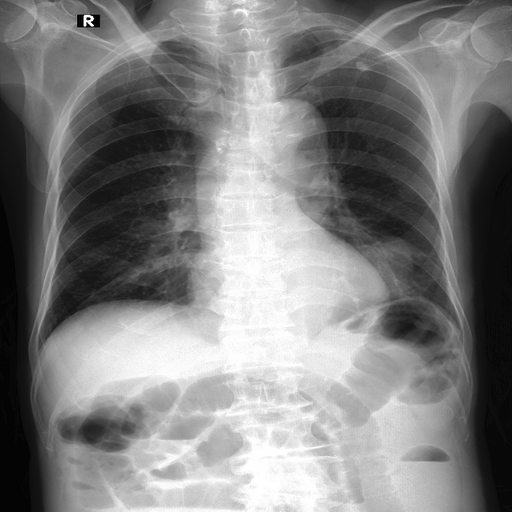Aortic enlargement: (354, 237, 418, 303)
Consolidation: (258, 101, 329, 210)
Lung Opacity: (352, 60, 372, 72)
Pulmonary fibrosis: (358, 239, 418, 298)
